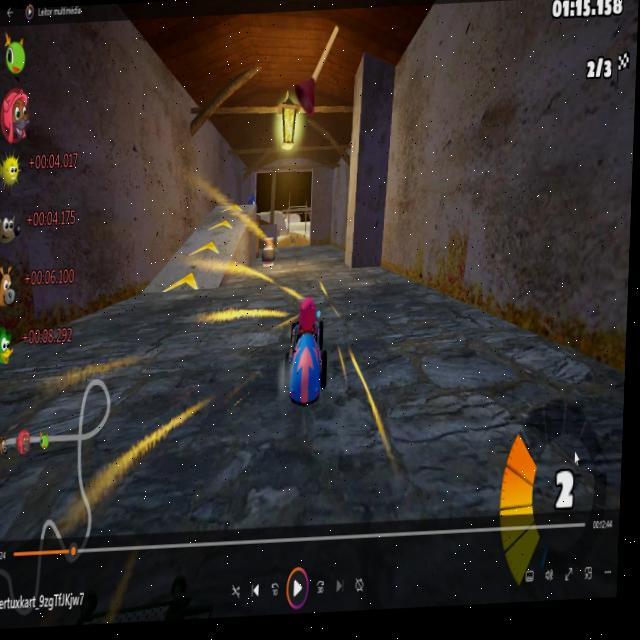player_kart: (287, 294, 331, 408)
power_up: (166, 269, 200, 302), (192, 240, 225, 263), (210, 216, 235, 237), (222, 195, 246, 213)
track: (0, 396, 624, 546), (127, 297, 287, 421), (326, 289, 487, 409), (20, 326, 131, 425), (279, 232, 309, 284), (311, 248, 345, 287), (253, 268, 282, 299)
